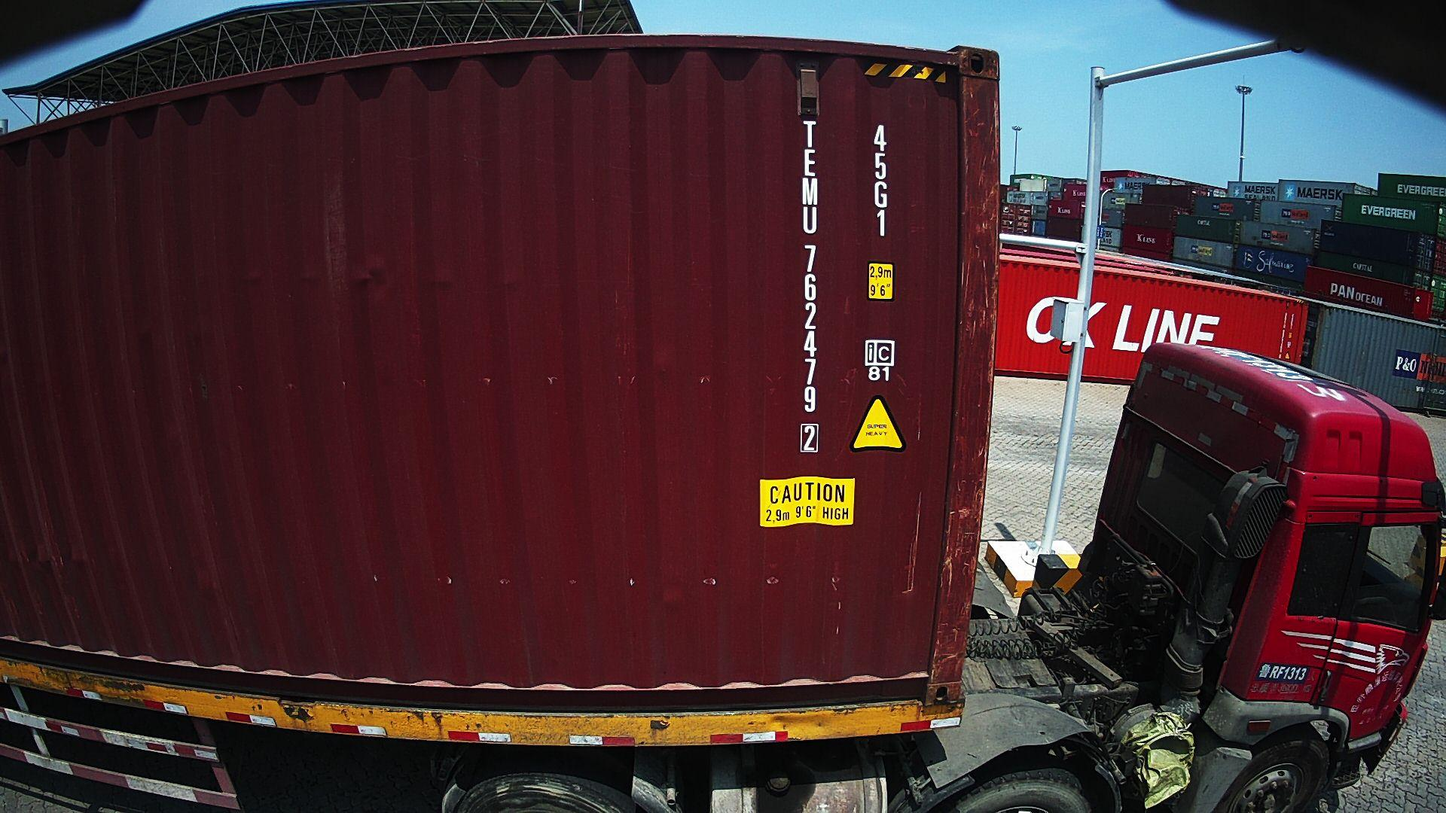container-numbers: (794, 117, 822, 455), (869, 120, 893, 239)
